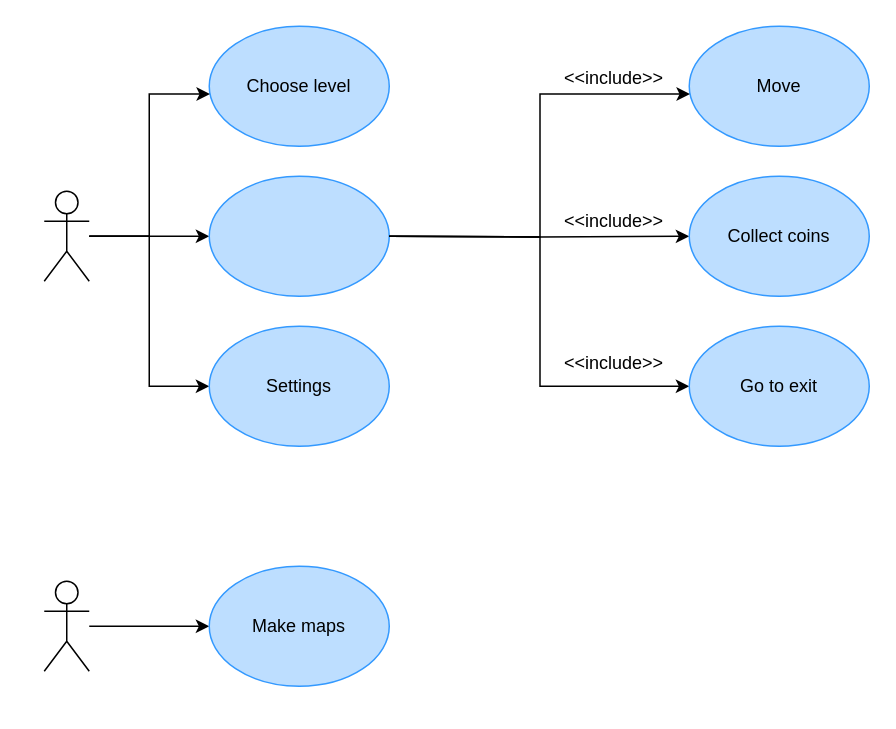
The diagram is 896 pixels wide and 729 high, and some of its shapes have lost their labels. Here are the shapes that lost their labels. From the top down, the box of each, then its label:
(43, 190, 89, 281): Player
(208, 175, 389, 296): Play game
(43, 580, 89, 671): Developer
